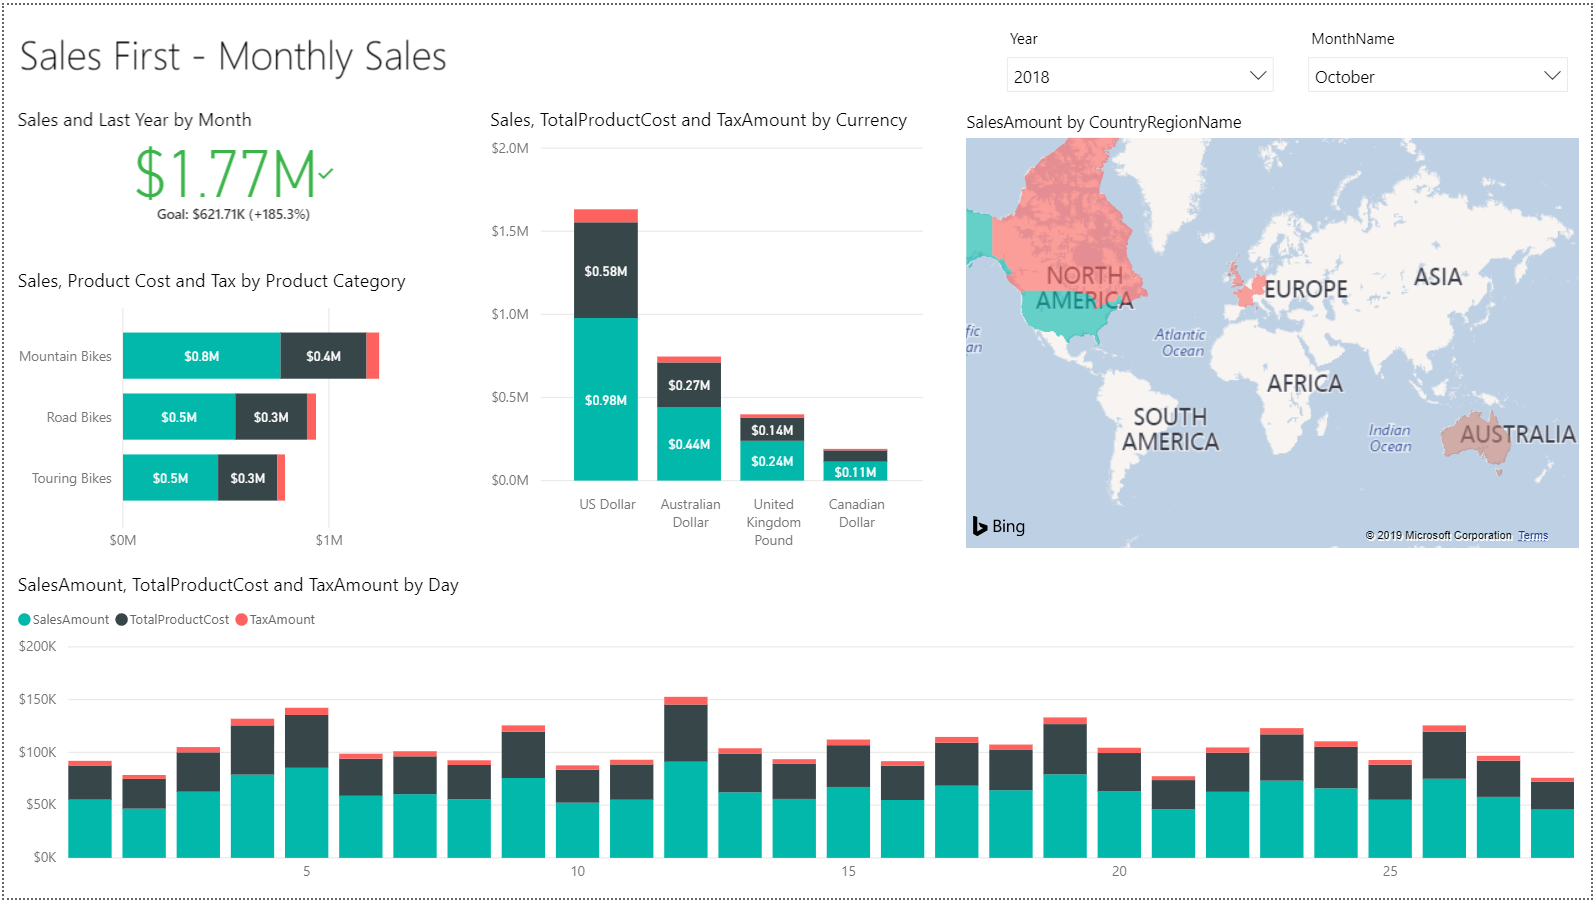

The page's visual inventory and layout, read from the dashboard file:
{"tool":"powerbi","page":{"name":"Sales by Month","canvas":[1280,720],"ordinal":1},"visuals":[{"type":"slicer","fields":{"Values":["Date.MonthName"]},"box":[1041.3,13.9,230,66.1],"z":2},{"type":"slicer","fields":{"Values":["Date.Year"]},"box":[798.6,13.9,235.8,63.3],"z":3},{"type":"columnChart","fields":{"Category":["Currency.Currency"],"Y":["Sum(Sales.SalesAmount)","Sum(Sales.TotalProductCost)","Sum(Sales.TaxAmount)"]},"box":[387.4,82.1,359.4,365.2],"z":4},{"type":"barChart","title":"Sales, Product Cost and Tax by Product Category","fields":{"Category":["ProductCategory.EnglishProductCategoryName","ProductSubcategory.EnglishProductSubcategoryName","Product.EnglishProductName"],"Y":["Sum(Sales.SalesAmount)","Sum(Sales.TotalProductCost)","Sum(Sales.TaxAmt)"]},"box":[5.8,211.7,360.6,237.8],"z":4},{"type":"columnChart","fields":{"Y":["Sum(Sales.SalesAmount)","Sum(Sales.TotalProductCost)","Sum(Sales.TaxAmount)"],"Category":["Date.Day"]},"box":[5.8,456.5,1265.5,260],"z":5},{"type":"filledMap","fields":{"Category":["Customers.CountryRegionName"],"Series":["Customers.City"]},"box":[770.2,82.1,501.6,360.6],"z":7},{"type":"kpi","title":"Sales and Last Year by Month","fields":{"Indicator":["Sum(Sales.SalesAmount)"],"Goal":["Sales.LastYearSameMonthSales"],"TrendLine":["Date.MonthName"]},"box":[5.8,82.1,358.3,97.1],"z":10},{"type":"textbox","box":[6.9,12.7,376.8,52],"z":7000}]}

Visuals, with their boxes in screenshot pixels (x1, y1, x2, y2), scaled from the page's 1280x720 canvas onto the 1595x903 screenshot:
slicer - Date.MonthName: [1298,17,1584,100]
slicer - Date.Year: [995,17,1289,97]
columnChart - Currency.Currency x Sum(Sales.SalesAmount): [483,103,931,561]
"Sales, Product Cost and Tax by Product Category" barChart: [7,266,457,564]
columnChart - Sum(Sales.SalesAmount) x Sum(Sales.TotalProductCost): [7,573,1584,899]
filledMap - Customers.CountryRegionName x Customers.City: [960,103,1585,555]
"Sales and Last Year by Month" kpi: [7,103,454,225]
textbox: [9,16,478,81]
